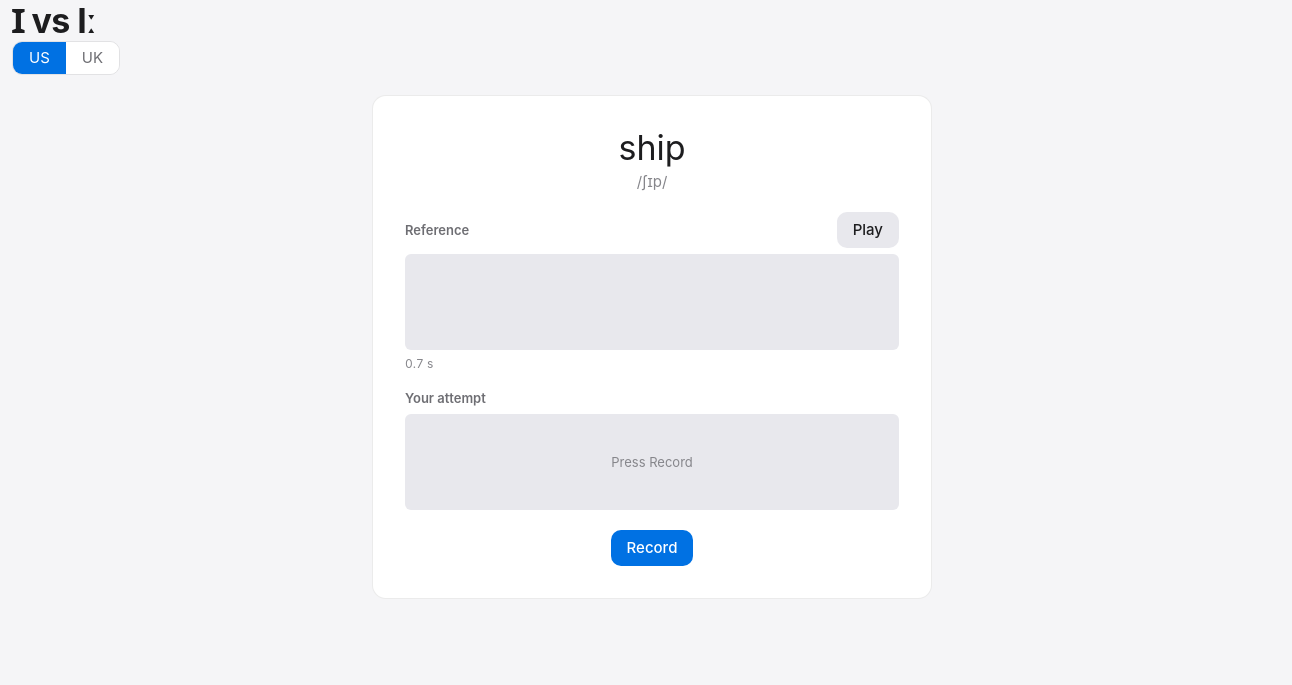
Scenario: attempt strip › Next clears the attempt strip
Click the button "Record": [652, 548] box [611,530,693,566]
(page scrolled)
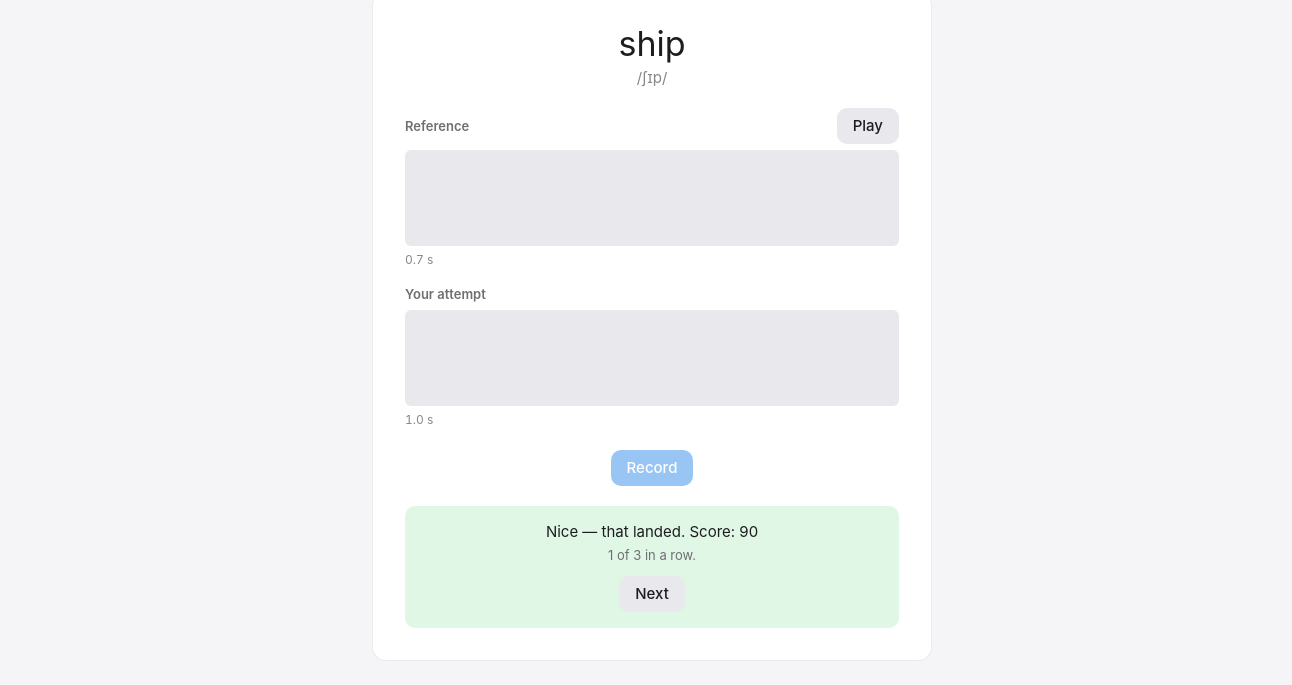
Click the button "Next": [652, 594] box [619,576,685,612]
(page scrolled)
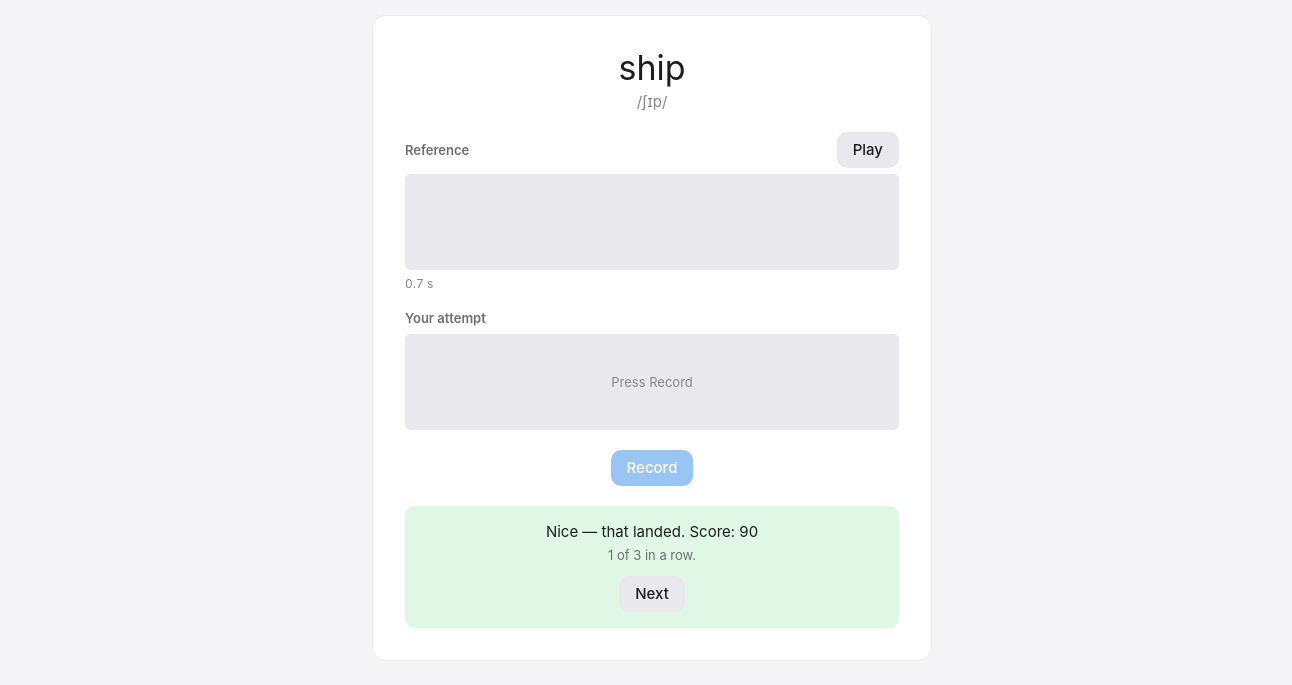
Expected: the text with class "spectrogram-strip-placeholder" reads "Press Record", [611,374,693,390]
